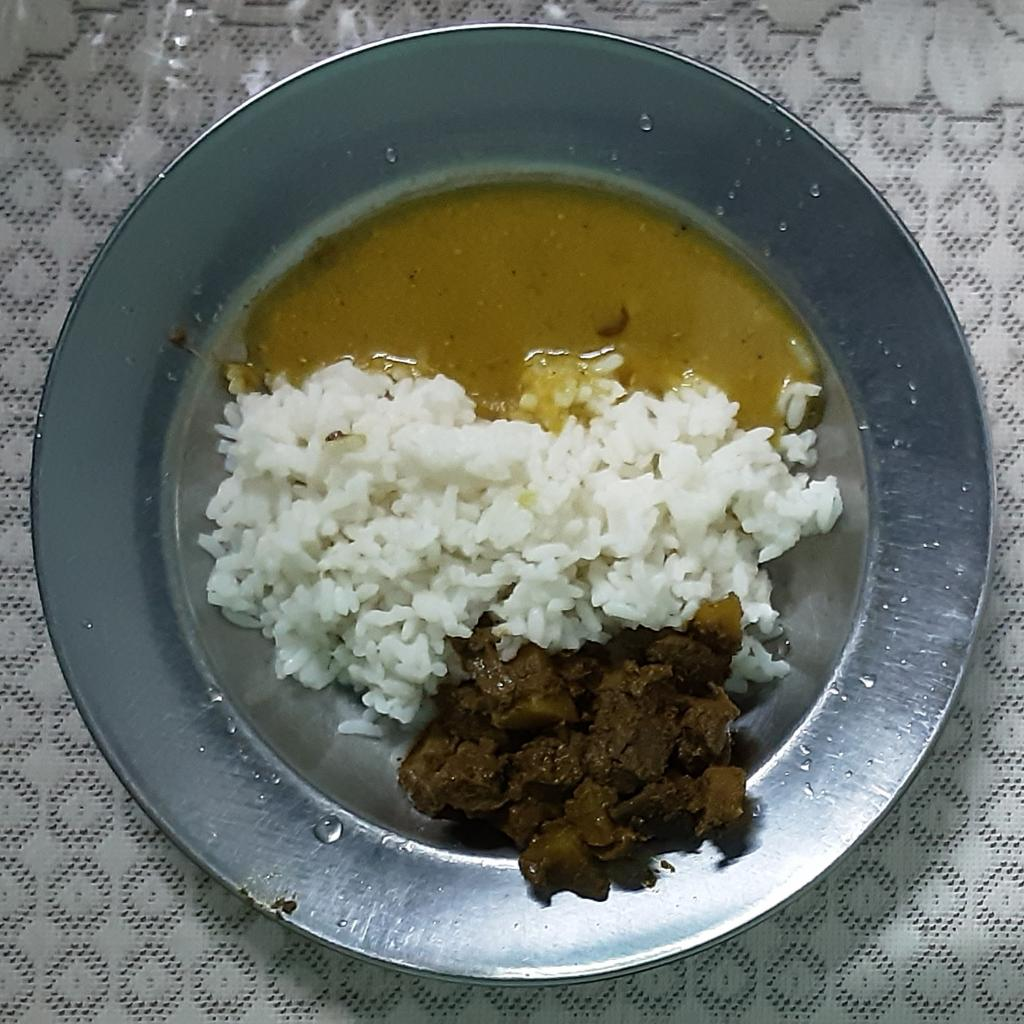beef: (393, 599, 758, 904)
daal: (240, 164, 824, 437)
rice: (202, 351, 845, 740)
